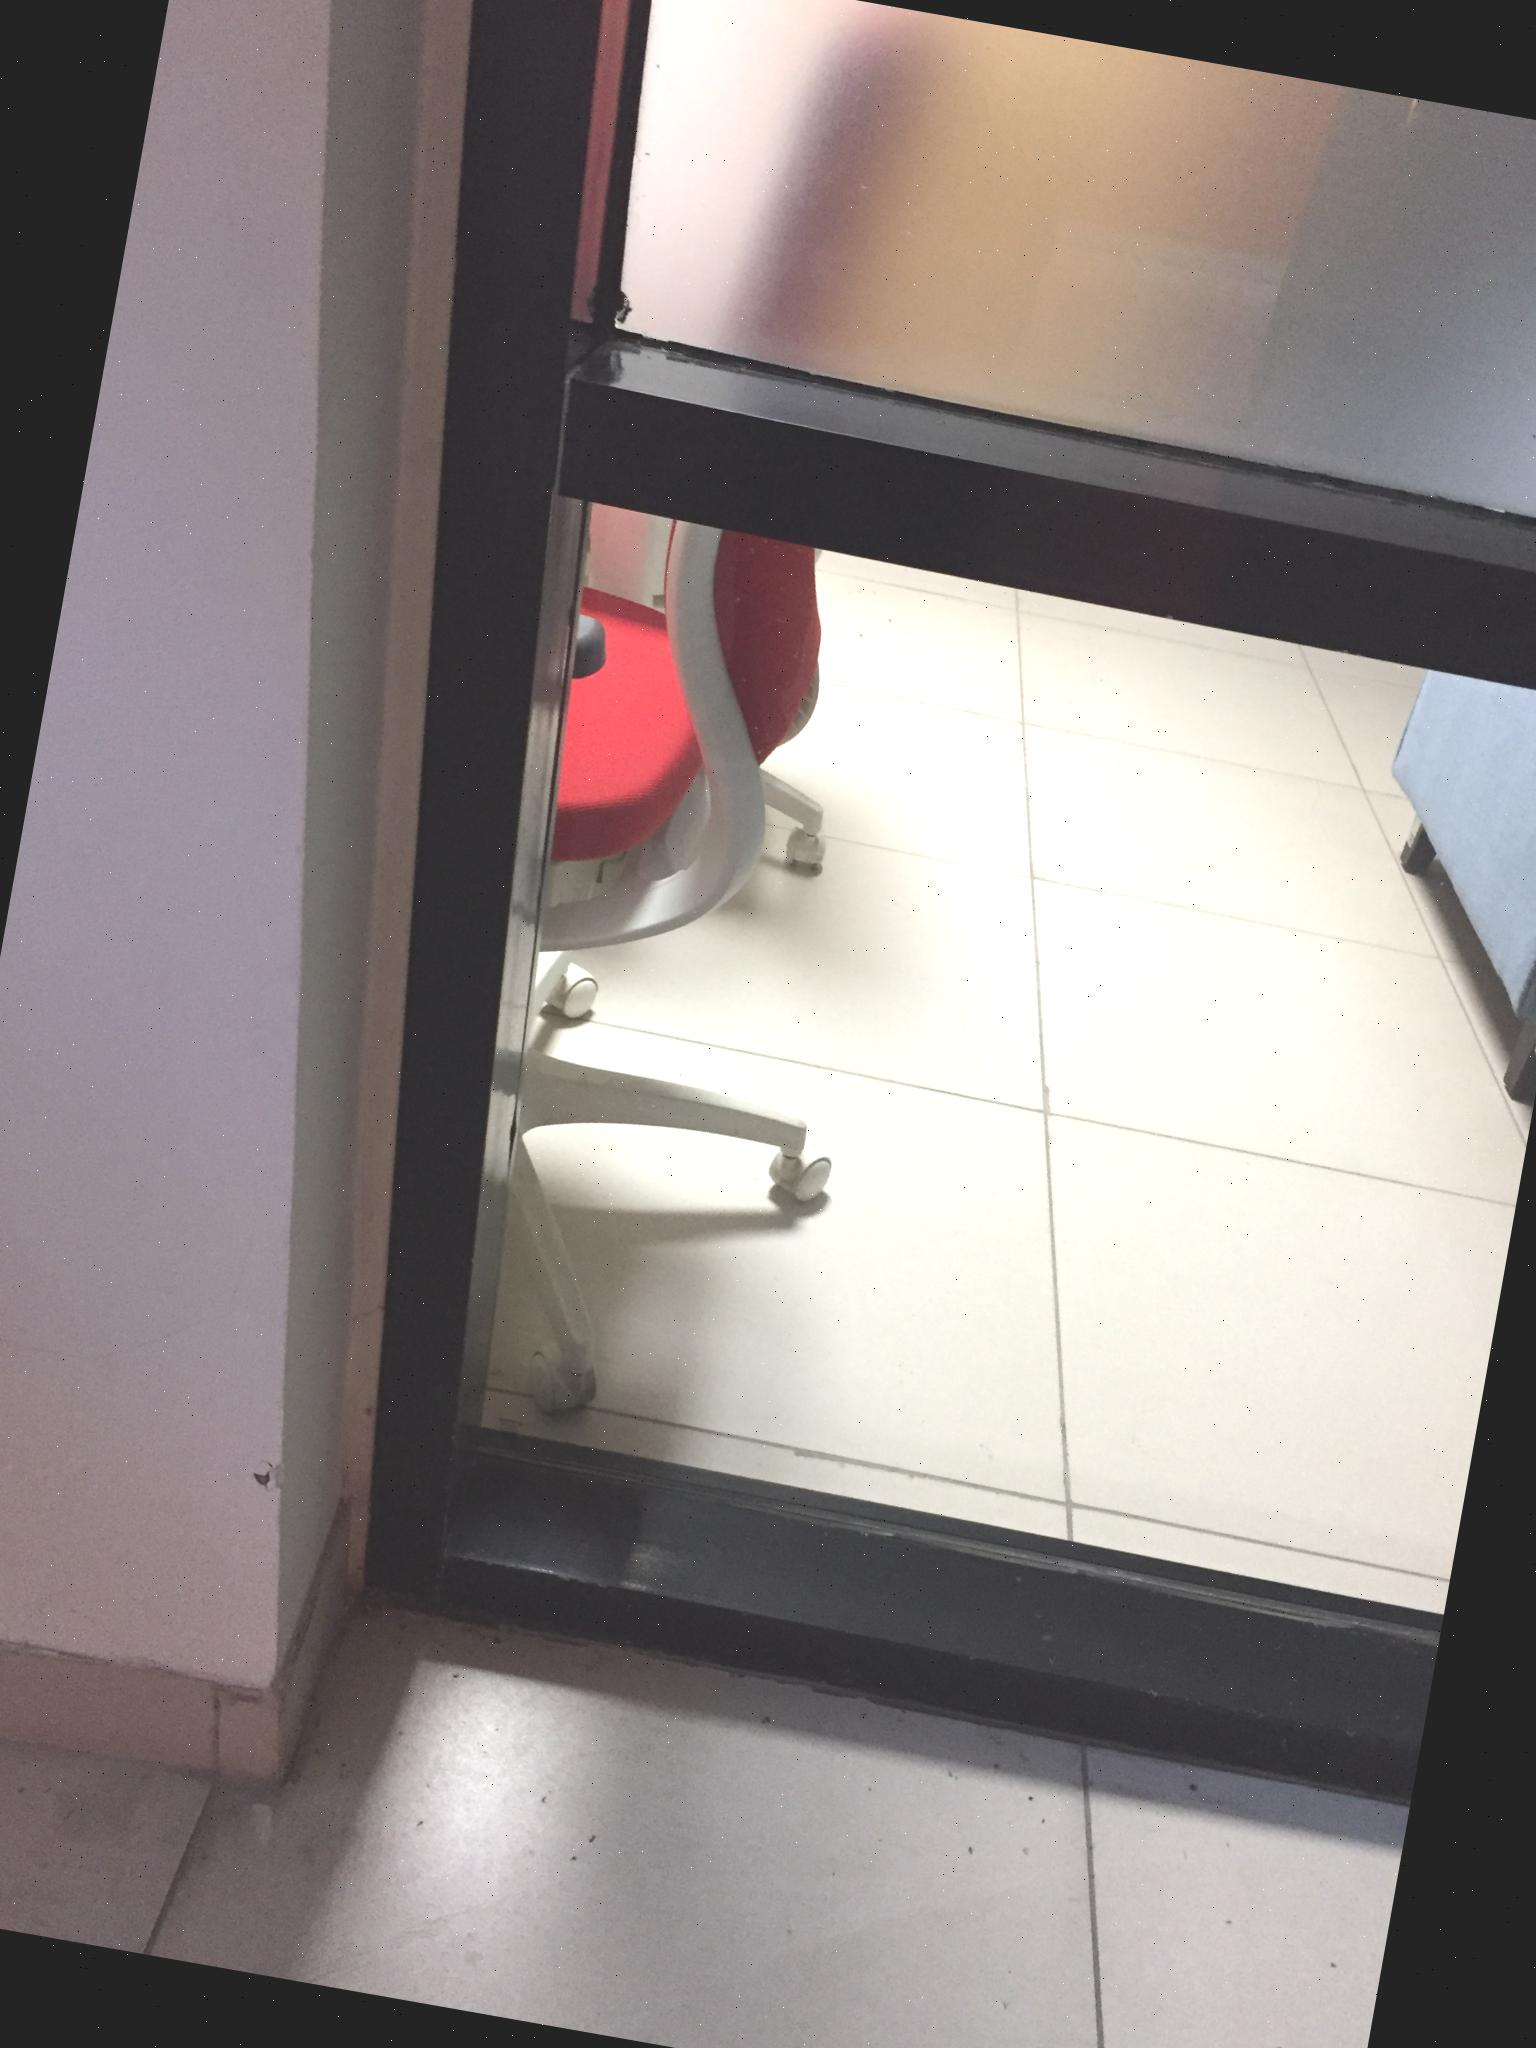chair: (115, 0, 1037, 1474)
